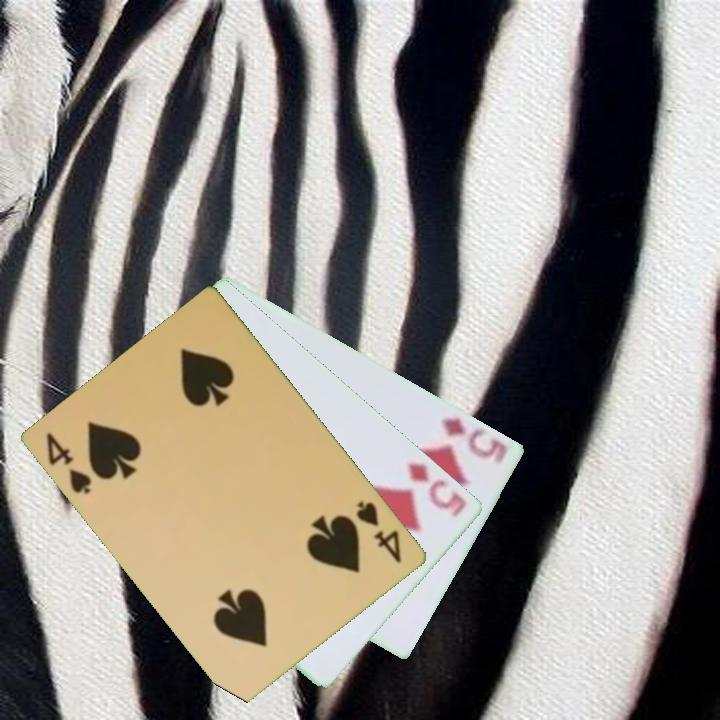4s: (353, 497, 405, 567), (43, 428, 95, 498)
5d: (405, 459, 471, 520), (438, 413, 512, 467)
